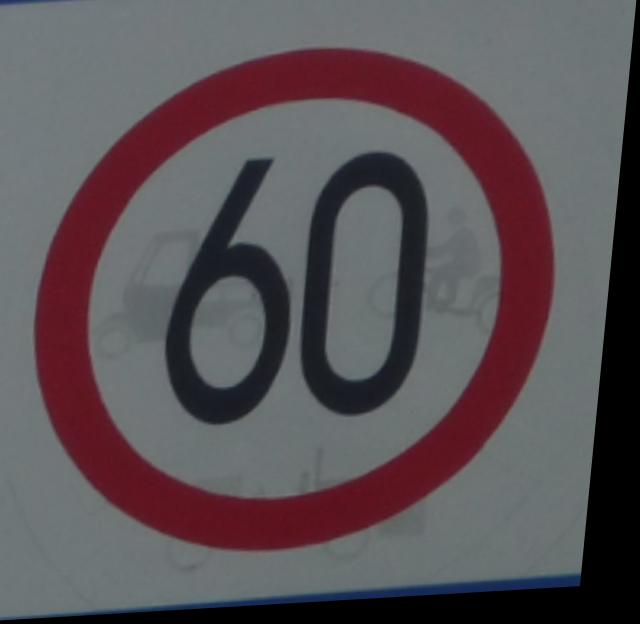limit60: (8, 30, 590, 578)
